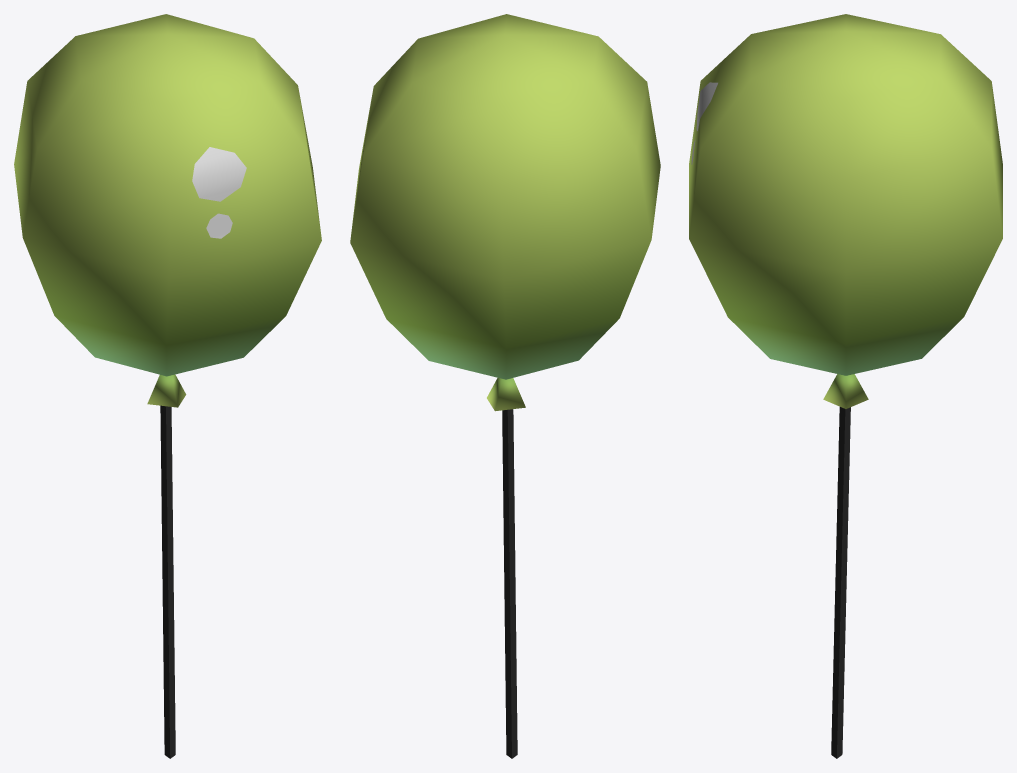
Rendered from greenBaloon.glb.
3 views of the same model, side by side, from view 1: azimuth 30°, elevation 25°; view 2: azimuth 150°, elevation 25°; view 3: azimuth 270°, elevation 25° (orthographic).
Visible parts, largest first — view 1: greenBaloon; view 2: greenBaloon; view 3: greenBaloon.
Boxes of the visible parts, box(x1,y1,x2,y2) form: greenBaloon: box(14, 14, 321, 758); greenBaloon: box(350, 14, 660, 758); greenBaloon: box(689, 14, 1002, 758).
Bounding box in the file's own units: 0.5473 × 1.29 × 0.5071.
